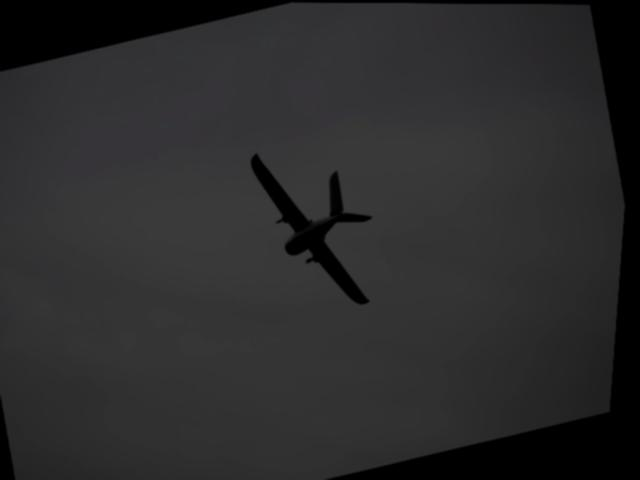plane: (239, 129, 400, 326)
